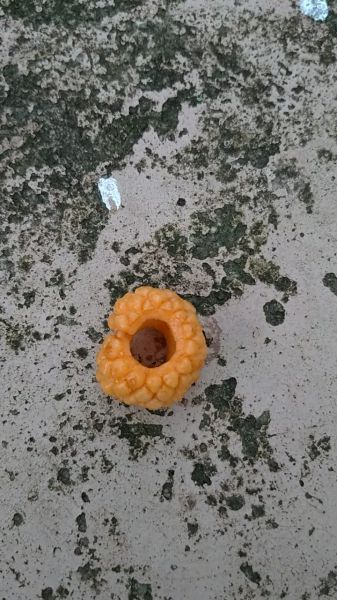eggs: (89, 277, 219, 415)
